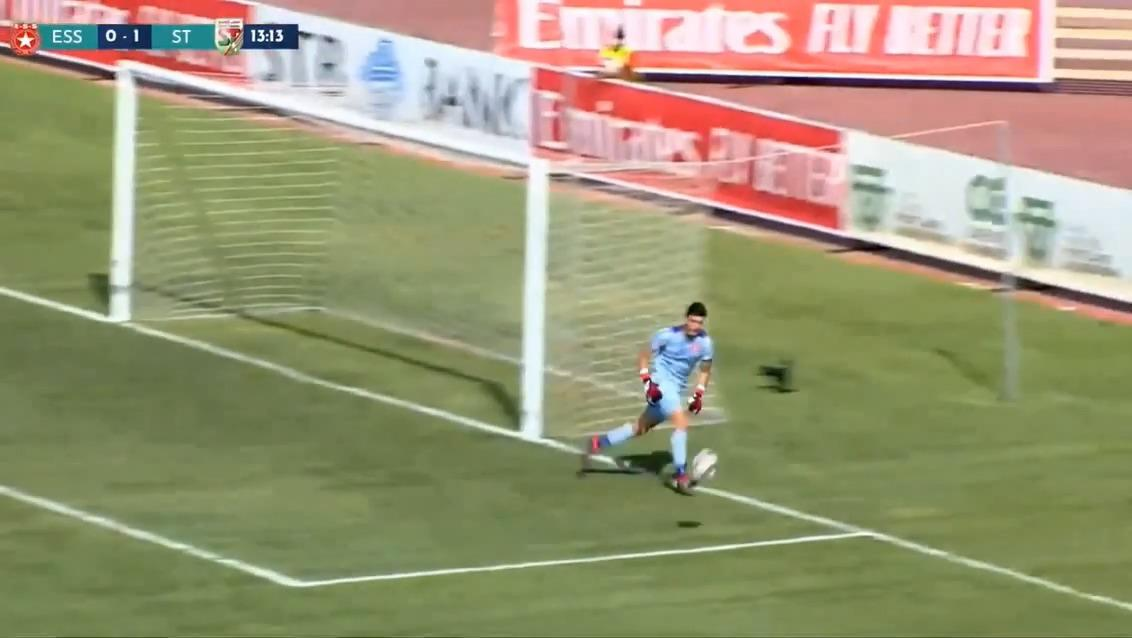ball: (692, 445, 727, 494)
goalkeeper: (613, 278, 712, 509)
